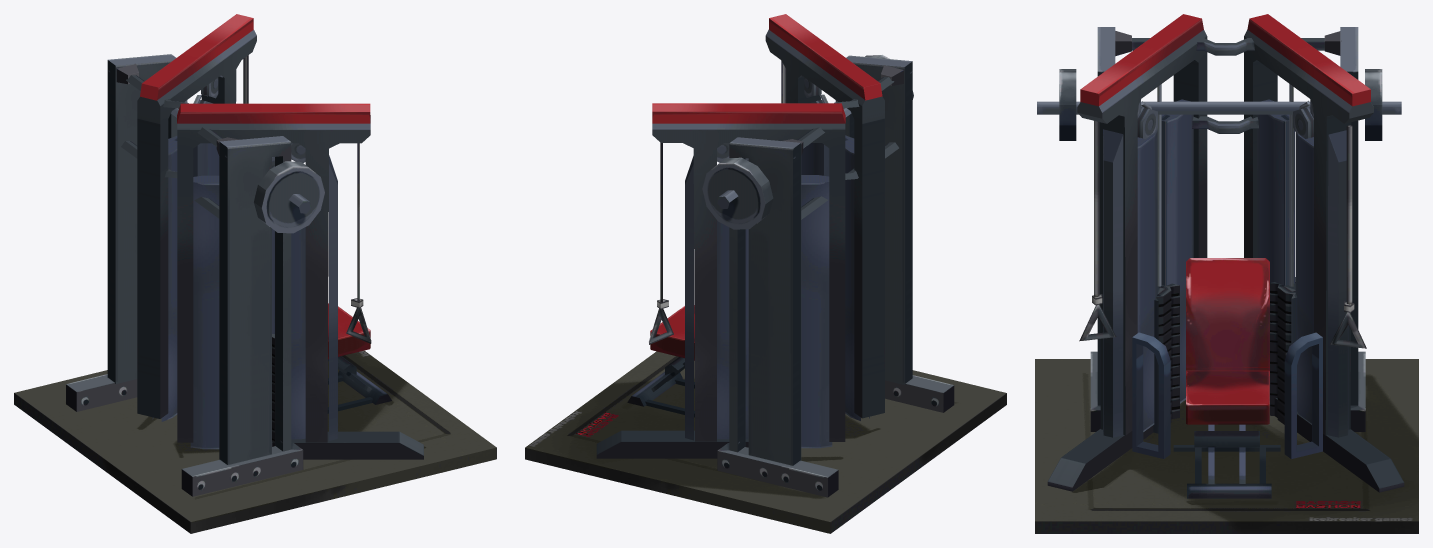
The model's file is trap_209_mufrbs_1.fbx.
3 views of the same model, side by side, from view 1: azimuth 30°, elevation 25°; view 2: azimuth 150°, elevation 25°; view 3: azimuth 270°, elevation 25° (orthographic). The views are drawn at different scales.
Parts seen in each view (by area): view 1: pasted__pCube71; view 2: pasted__pCube71; view 3: pasted__pCube71.
Boxes of the visible parts, bbox=[...] form: pasted__pCube71: bbox=[14, 14, 496, 533]; pasted__pCube71: bbox=[525, 14, 1006, 533]; pasted__pCube71: bbox=[1035, 14, 1418, 533].
Bounding box in the file's own units: 1 × 1.12 × 1.
Materials: 1 (1 with a texture image).
